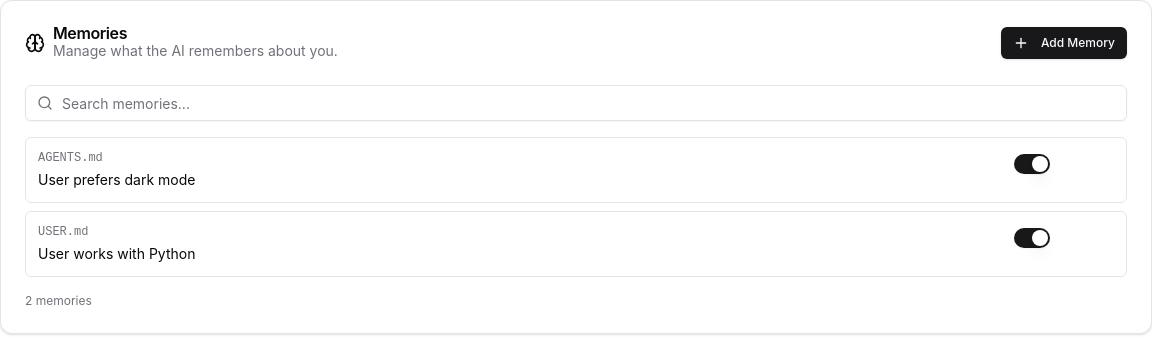
MemorySettings › shows search empty state
The width and height of the screenshot is (1152, 352).
Expected: the text "User prefers dark mode" is shown, 38,171 -> 195,188
In the field with placeholder "Search memories...": (576, 103) 25,85 -> 1127,121, type "nonexistent"
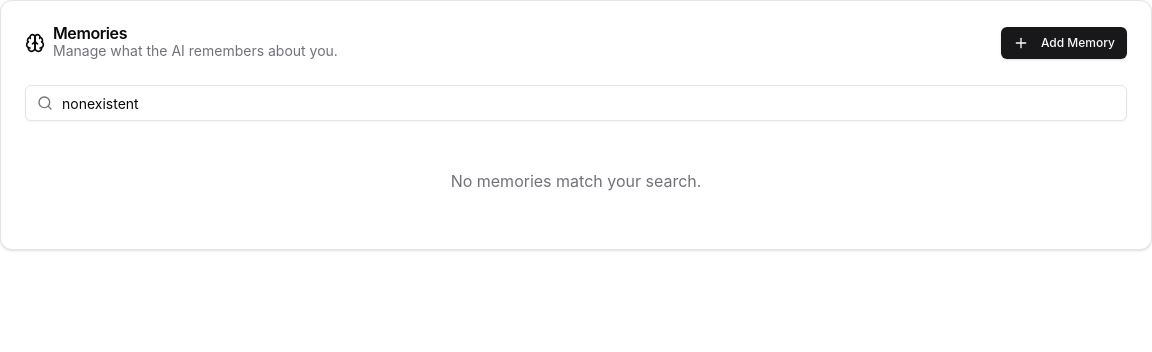
Expected: the text "No memories match your search." is shown, 451,171 -> 701,191
